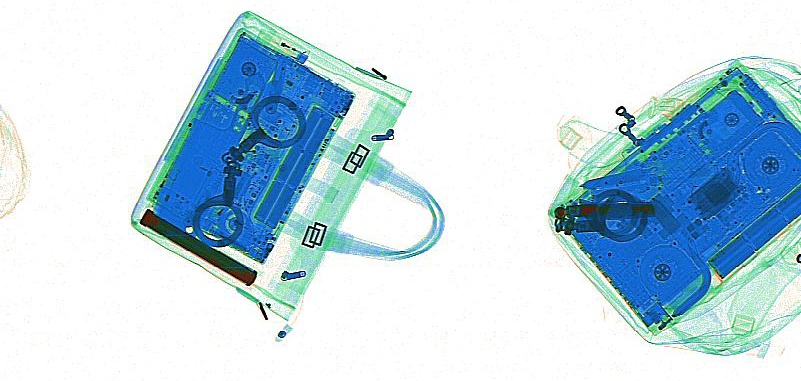handcuffs: (190, 92, 307, 247), (552, 186, 649, 241)
knife: (150, 69, 266, 249), (577, 164, 719, 195), (576, 196, 656, 220), (264, 53, 287, 114)
lighter: (253, 27, 310, 64)
